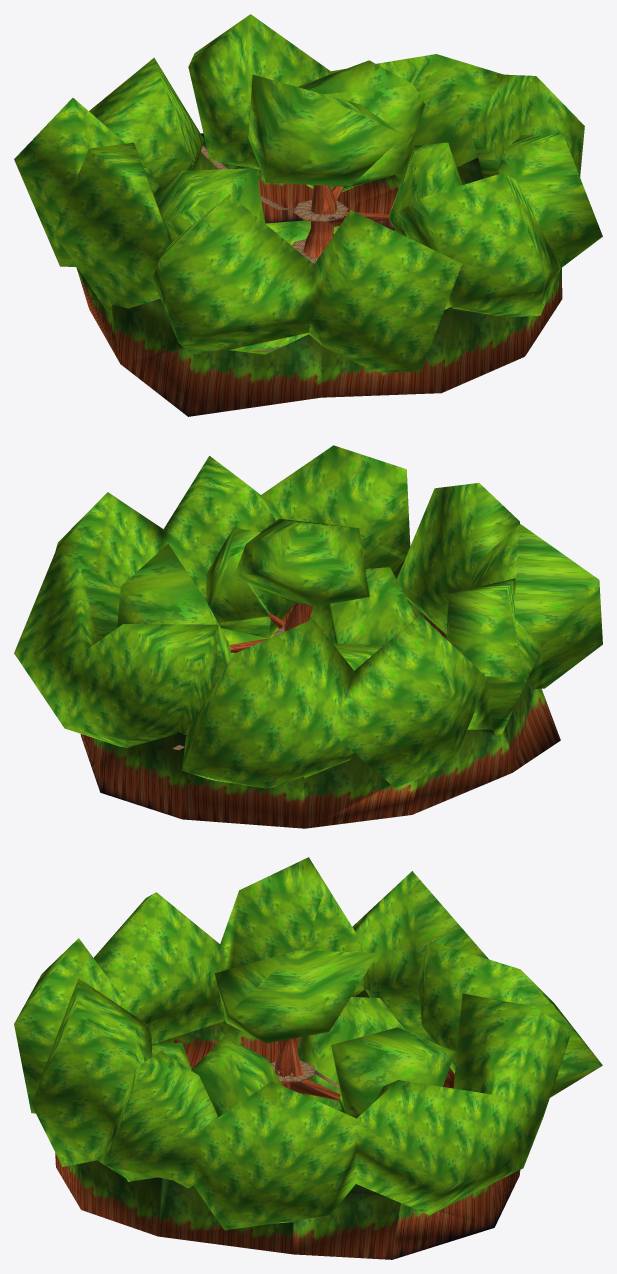
File: ENVO_TreeVillage.obj
The picture shows the model from 3 angles, top to bottom: view 1: azimuth 30°, elevation 25°; view 2: azimuth 150°, elevation 25°; view 3: azimuth 270°, elevation 25°; orthographic projection. The views are drawn at different scales.
Parts seen in each view (by area): view 1: TreeVillage; view 2: TreeVillage; view 3: TreeVillage.
Part boxes in pixels (x1,y1,x2,y2): TreeVillage: (14, 14, 602, 416); TreeVillage: (14, 445, 602, 828); TreeVillage: (14, 857, 602, 1259).
Size of what is drawn, in the model's own units: 11155 by 5326 by 11427.
13 materials, 13 textured.
